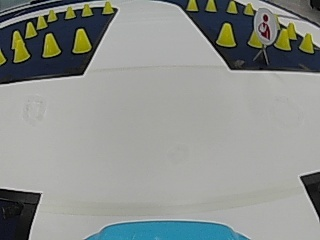cone: (216, 22, 236, 47), (12, 32, 29, 61), (72, 28, 91, 53), (42, 33, 61, 57), (275, 29, 291, 50), (300, 32, 314, 53), (25, 21, 37, 37), (101, 1, 114, 15), (81, 3, 93, 17), (64, 6, 76, 19), (36, 15, 47, 28), (186, 0, 198, 11), (205, 1, 217, 12), (243, 3, 254, 15), (226, 1, 237, 13), (47, 9, 57, 21), (0, 47, 6, 64)
patient: (256, 6, 276, 42)
